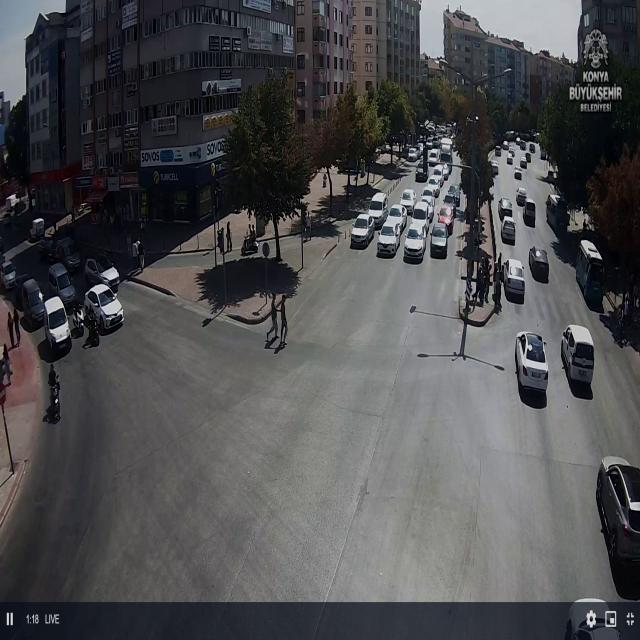Bus: (575, 239, 605, 306), (545, 194, 569, 234)
Car: (595, 455, 640, 573), (514, 331, 550, 394), (83, 283, 125, 332), (47, 263, 77, 310), (85, 253, 120, 290), (21, 279, 48, 325), (502, 258, 526, 300), (55, 237, 83, 273), (350, 214, 376, 246), (403, 224, 426, 260), (377, 222, 402, 255), (367, 192, 388, 227), (528, 246, 550, 279), (429, 222, 449, 256), (384, 206, 407, 234), (412, 200, 433, 227), (0, 259, 17, 291), (437, 204, 455, 233), (399, 188, 417, 214), (500, 216, 517, 243), (420, 186, 438, 208), (497, 197, 513, 218), (446, 184, 460, 206), (427, 175, 442, 195), (431, 165, 445, 184), (515, 187, 527, 206), (406, 147, 419, 162), (440, 162, 451, 179), (415, 168, 428, 182), (488, 160, 500, 175), (514, 167, 523, 179), (520, 157, 528, 168), (494, 146, 502, 156), (518, 140, 526, 150), (502, 141, 510, 150), (506, 154, 513, 164)
Cycle: (48, 375, 62, 422), (239, 235, 259, 256), (71, 304, 85, 333)
Van: (561, 325, 595, 386), (43, 296, 72, 351), (30, 217, 46, 242)
